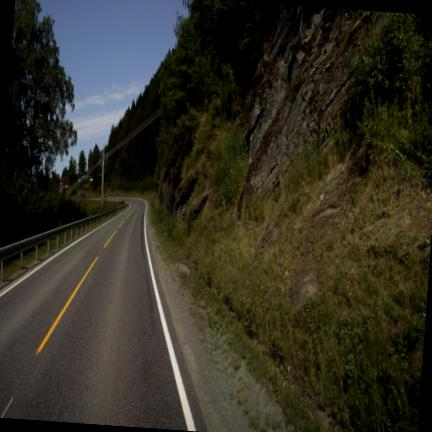Road: (0, 199, 204, 429)
